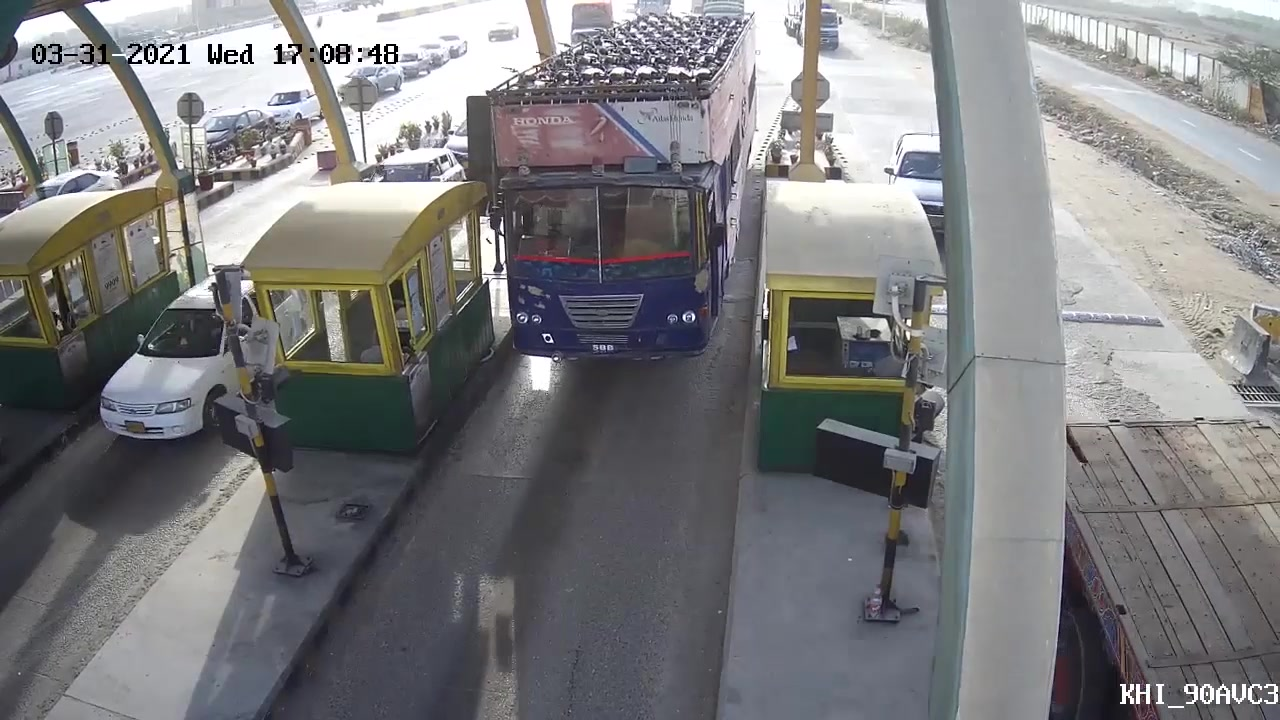F5: (453, 17, 761, 378)
